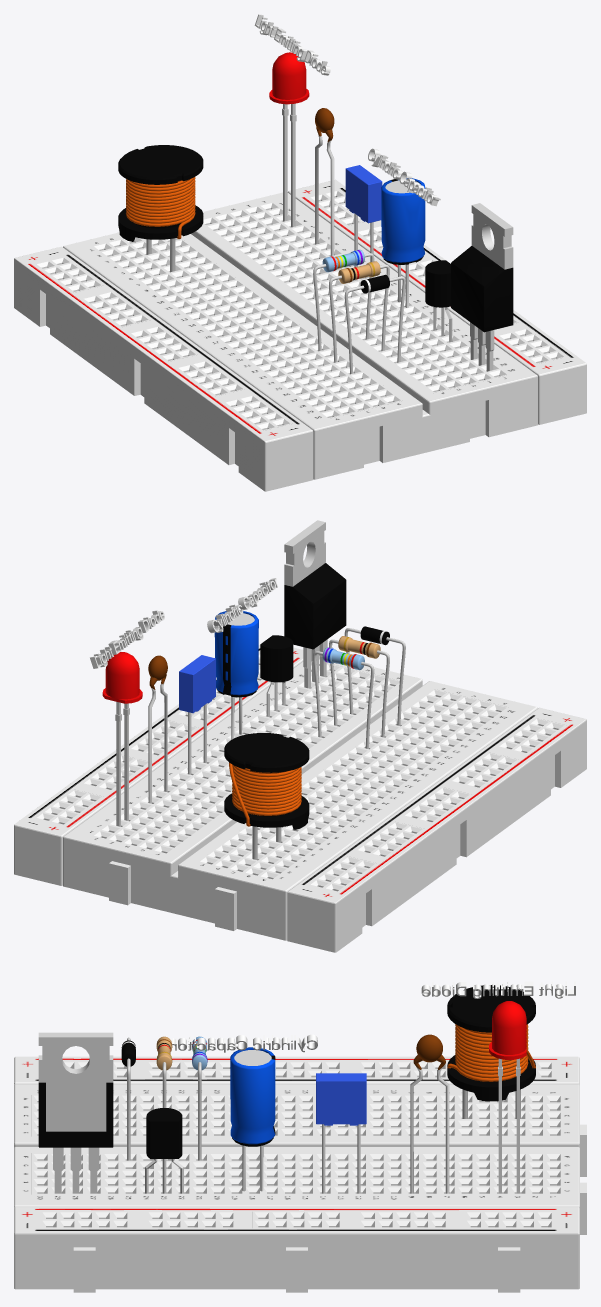
File: electronics.glb
3 views of the same model, one above another, from view 1: azimuth 30°, elevation 25°; view 2: azimuth 150°, elevation 25°; view 3: azimuth 270°, elevation 25° (orthographic). The views are drawn at different scales.
Visible parts, largest first — view 1: Breadboard_100_3, TO-220_18_67, Inductor-Radial_38_43, Capacitor-Cylindrical_6_20, Wire001_37_41, Heatsink_16_63, Capacitor-Film_22_26, Diode-Light-Emitting_2_32, Legs_0_28, TO-92_15_71, Text005_78, Text004_77 (+5 smaller); view 2: Breadboard_100_3, TO-220_18_67, Inductor-Radial_38_43, Capacitor-Cylindrical_6_20, Wire001_37_41, Heatsink_16_63, Capacitor-Film_22_26, Diode-Light-Emitting_2_32, TO-92_15_71, Legs_0_28, Text005_78, Text004_77 (+7 smaller); view 3: Breadboard_100_3, Heatsink_16_63, Capacitor-Cylindrical_6_20, Inductor-Radial_38_43, Capacitor-Film_22_26, Wire001_37_41, TO-220_18_67, Diode-Light-Emitting_2_32, TO-92_15_71, Text004_77, Text005_78, Legs005_17_65 (+8 smaller).
Boxes of the visible parts, box(x1,y1,x2,y2) form: Breadboard_100_3: box(14, 179, 586, 491); TO-220_18_67: box(451, 246, 513, 332); Inductor-Radial_38_43: box(118, 145, 203, 241); Capacitor-Cylindrical_6_20: box(381, 178, 425, 264); Wire001_37_41: box(126, 177, 195, 239); Heatsink_16_63: box(471, 203, 513, 269); Capacitor-Film_22_26: box(345, 165, 382, 223); Diode-Light-Emitting_2_32: box(269, 52, 309, 104); Legs_0_28: box(282, 103, 296, 227); TO-92_15_71: box(425, 260, 450, 307); Text005_78: box(254, 14, 330, 75); Text004_77: box(368, 148, 440, 206); Breadboard_100_3: box(14, 644, 586, 952); TO-220_18_67: box(284, 563, 346, 649); Inductor-Radial_38_43: box(224, 733, 309, 829); Capacitor-Cylindrical_6_20: box(214, 611, 258, 697); Wire001_37_41: box(229, 762, 301, 826); Heatsink_16_63: box(284, 520, 325, 586); Capacitor-Film_22_26: box(179, 655, 215, 713); Diode-Light-Emitting_2_32: box(102, 652, 142, 703); TO-92_15_71: box(260, 635, 293, 682); Legs_0_28: box(115, 702, 129, 826); Text005_78: box(90, 610, 164, 668); Text004_77: box(207, 578, 277, 633); Breadboard_100_3: box(14, 1056, 586, 1292); Heatsink_16_63: box(38, 1032, 113, 1131); Capacitor-Cylindrical_6_20: box(230, 1047, 275, 1146); Inductor-Radial_38_43: box(447, 985, 535, 1101); Capacitor-Film_22_26: box(316, 1073, 366, 1125); Wire001_37_41: box(447, 1024, 535, 1081); TO-220_18_67: box(38, 1082, 113, 1147); Diode-Light-Emitting_2_32: box(489, 1001, 526, 1059); TO-92_15_71: box(146, 1108, 182, 1158); Text004_77: box(172, 1034, 317, 1052); Text005_78: box(421, 981, 575, 998); Legs005_17_65: box(53, 1147, 99, 1193).
Bounding box in the file's own units: 0.0317 × 0.0217 × 0.0426.
Materials: 38 (1 with a texture image).
